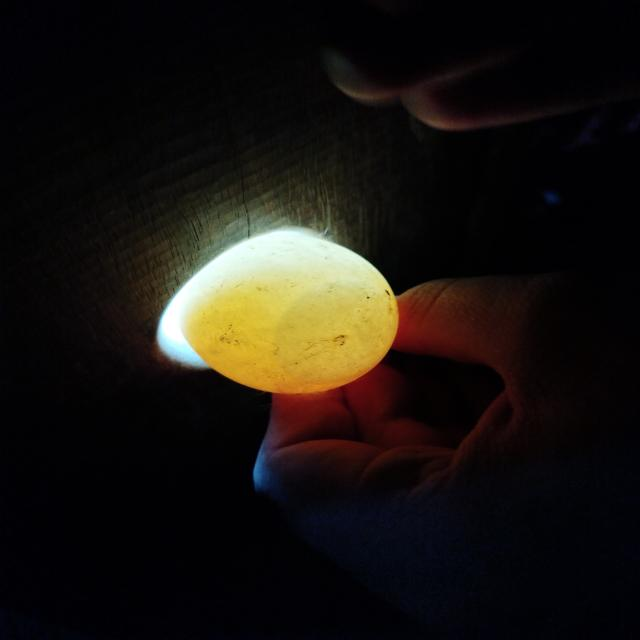Camara de Ar: (271, 283, 400, 384)
